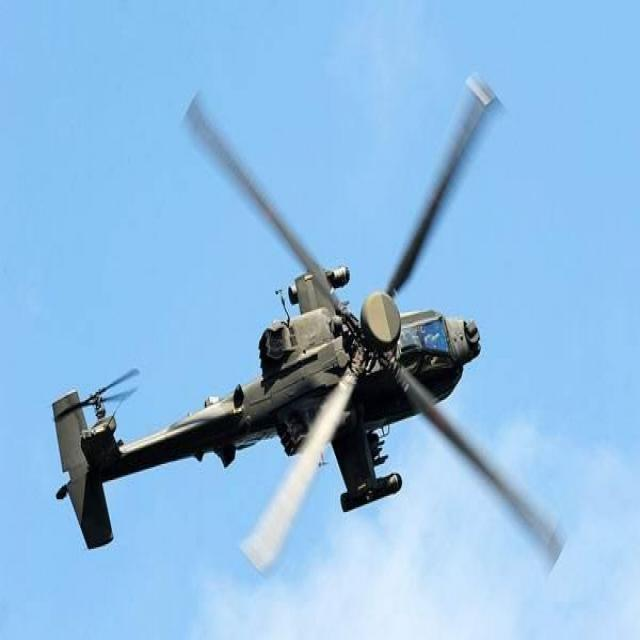MIL_HELO: (28, 56, 599, 594)
